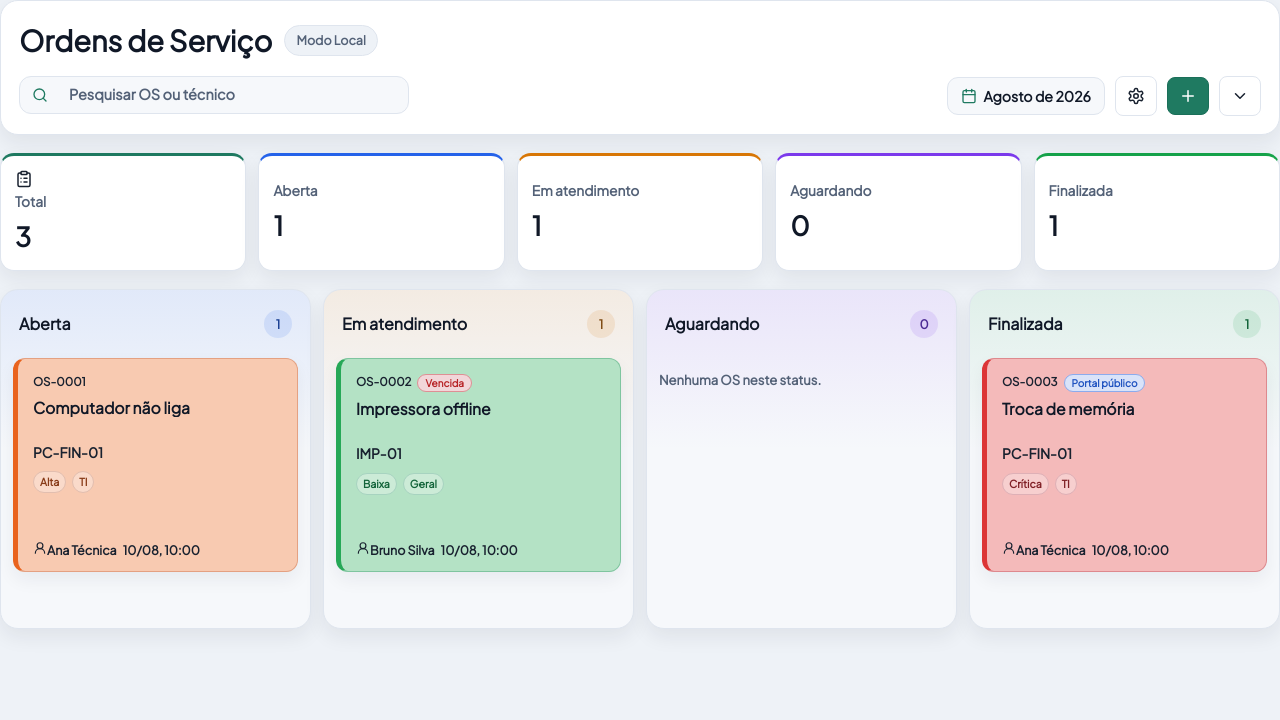
Test case: ServiceOrdersBoard › sem permissão de ver tudo, começa em 'Meu setor' e esconde a opção de todos
Click the button named "Filtros de Ordens de Serviço". click: click(1240, 96)
box: [1219,76,1261,116]
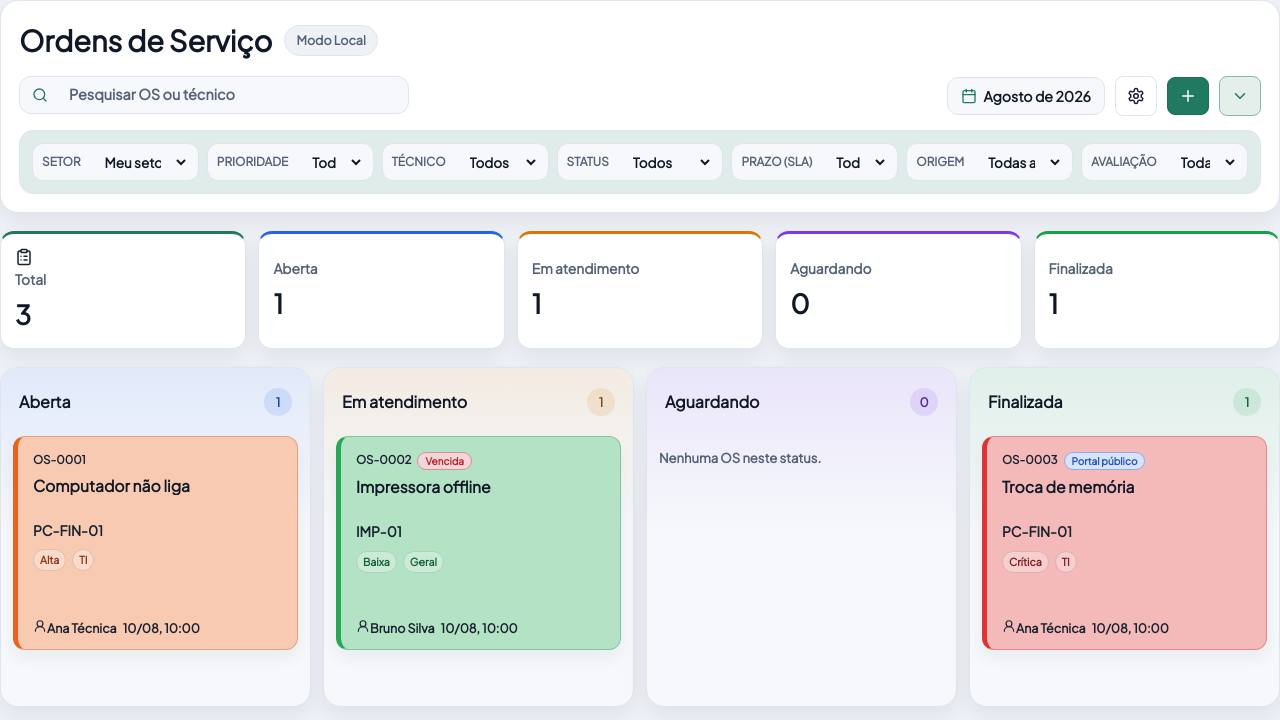
Expected: the text "3" is shown, [15,298,31,331]
Result: the dropdown labelled "Setor" shows "Meu setor" at [89,147,189,177]
